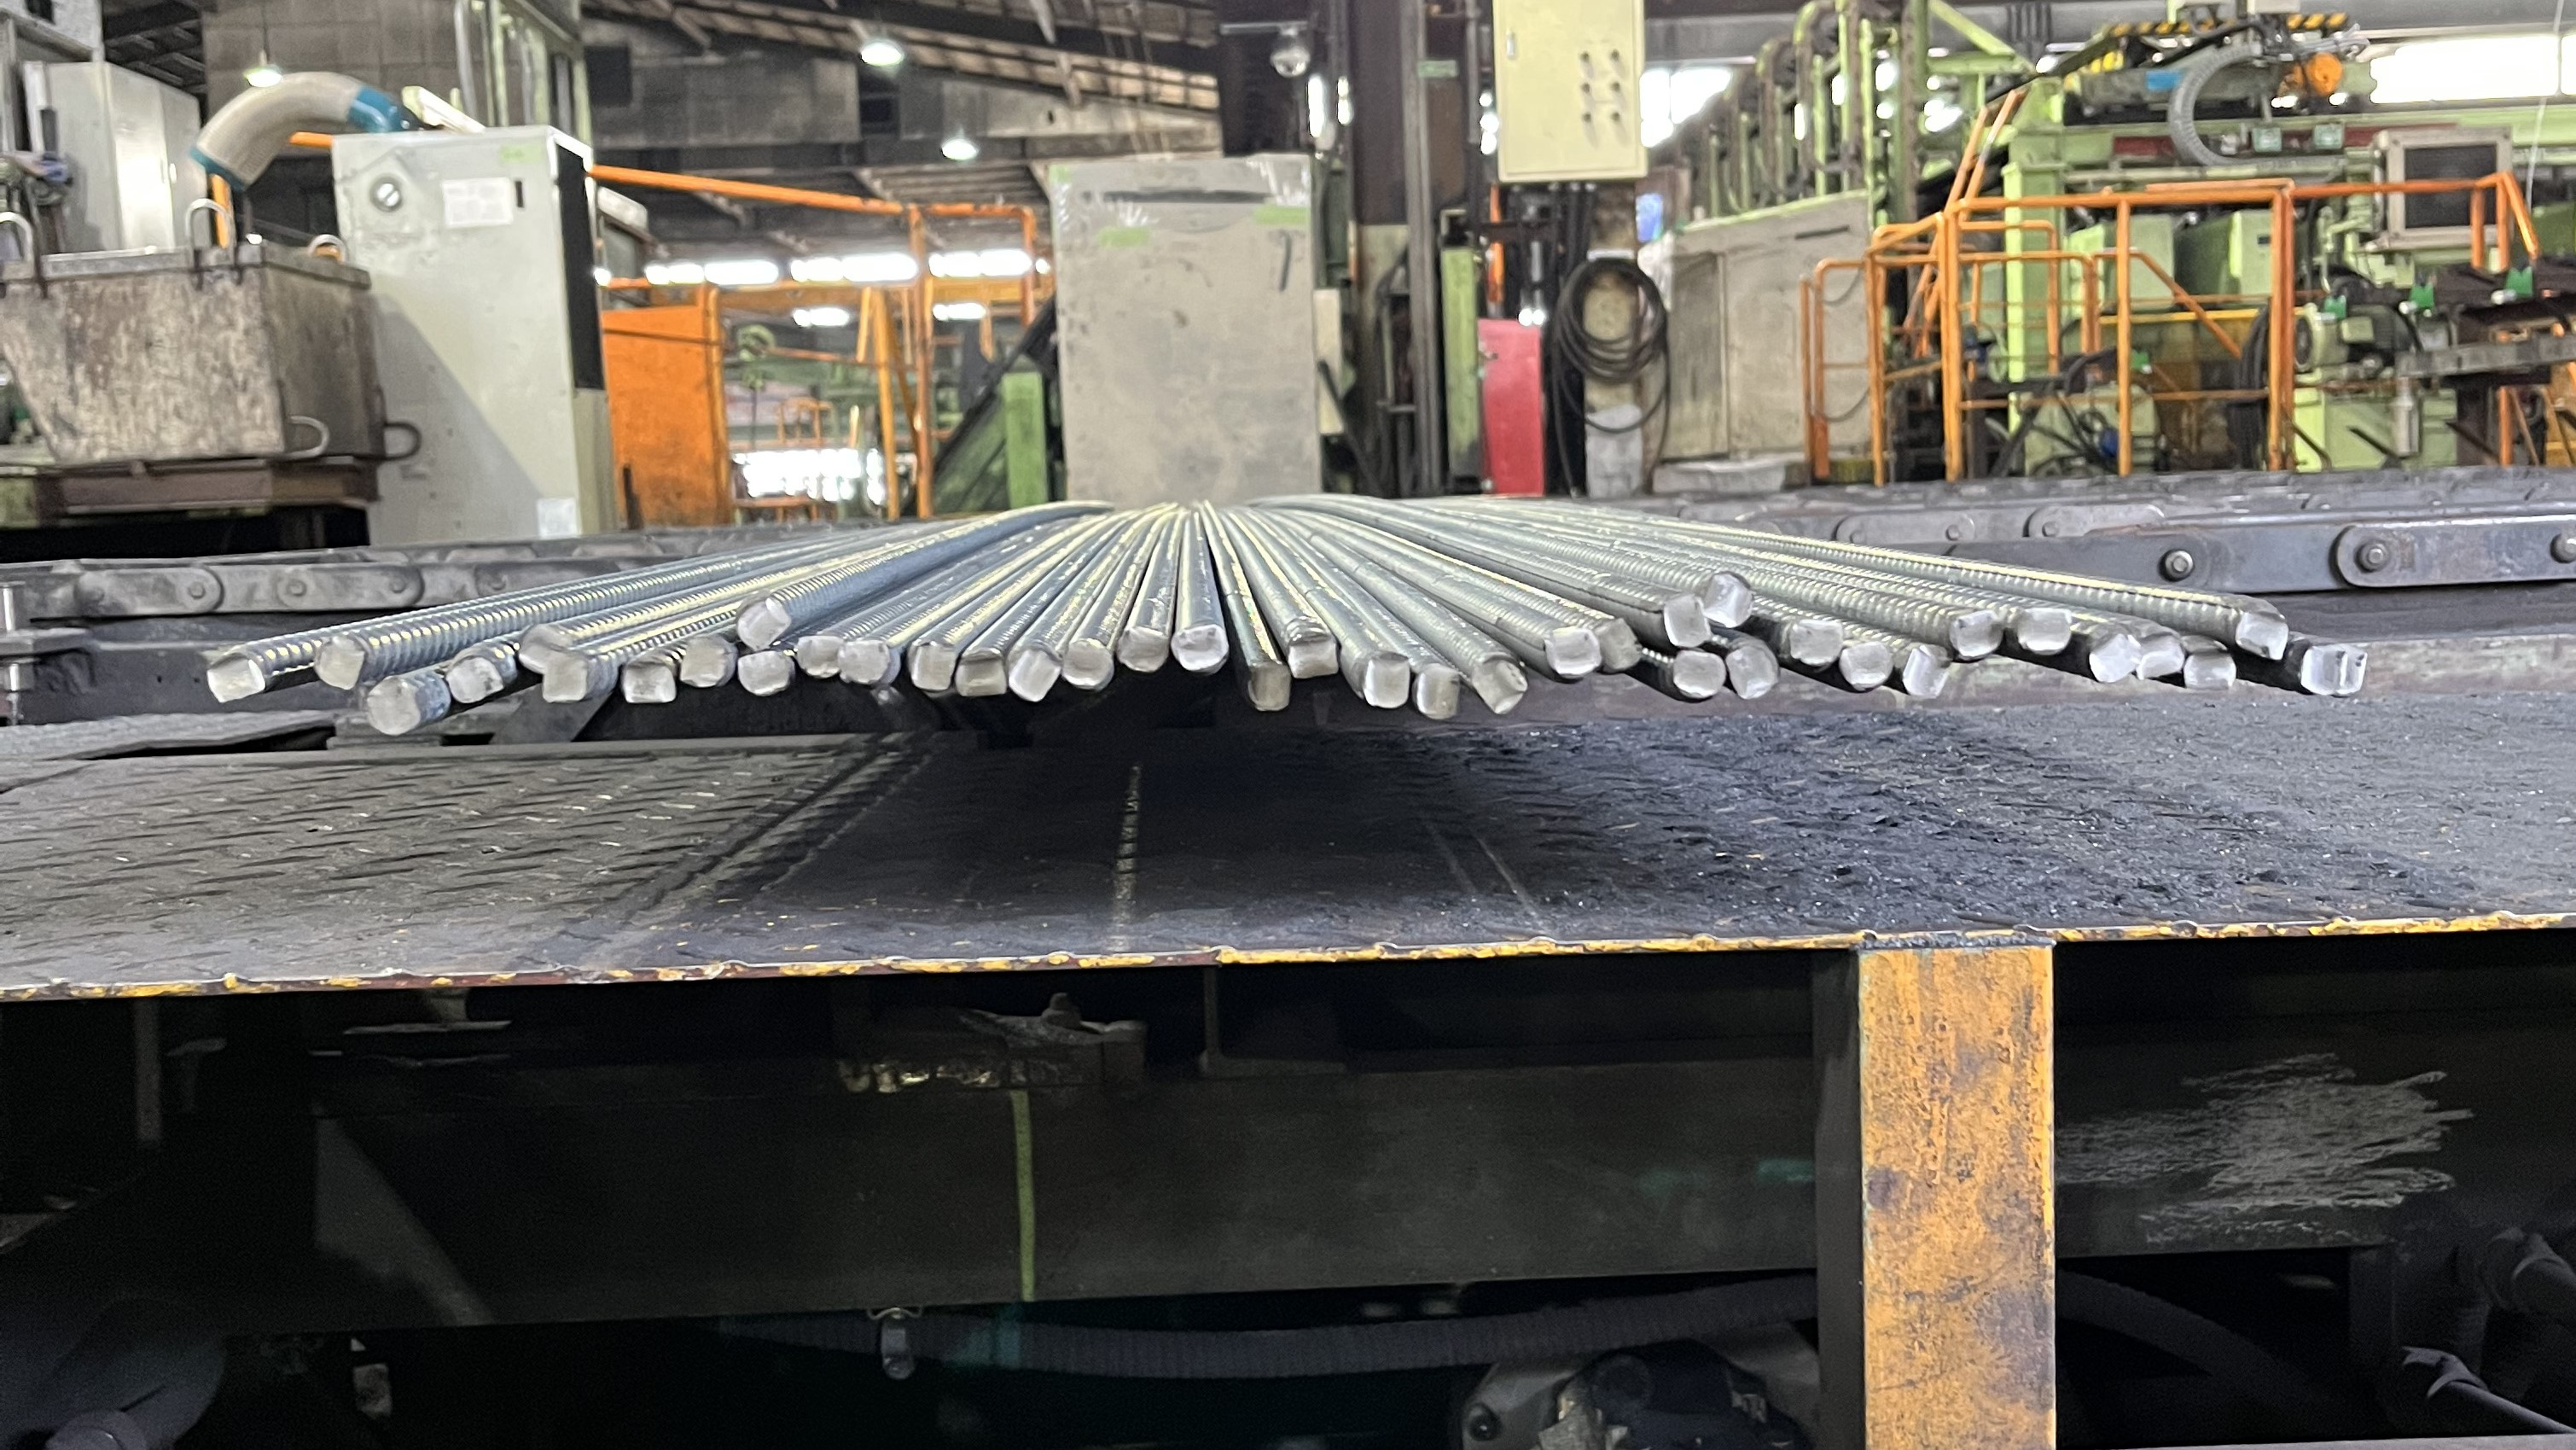rod: (361, 673, 423, 738), (1470, 652, 1530, 717), (442, 653, 508, 706), (205, 652, 267, 706), (1723, 644, 1780, 703), (2233, 605, 2289, 664), (734, 595, 794, 650), (1007, 643, 1062, 703), (1702, 570, 1757, 630), (678, 632, 734, 689), (1545, 625, 1603, 680), (617, 655, 679, 706), (1060, 636, 1115, 690), (1661, 593, 1714, 650), (1670, 648, 1727, 701), (2086, 630, 2143, 683), (2296, 641, 2350, 698), (313, 632, 364, 690), (1361, 652, 1412, 710), (1948, 609, 2006, 660), (2015, 605, 2074, 657), (1169, 623, 1230, 673), (1787, 616, 1847, 666), (517, 620, 570, 675), (1902, 643, 1951, 701), (1286, 629, 1339, 682), (540, 650, 591, 705), (736, 650, 794, 698), (1836, 643, 1895, 690), (1594, 618, 1644, 673), (1115, 625, 1171, 673), (1415, 664, 1463, 721), (2180, 644, 2238, 690), (837, 637, 892, 685), (909, 641, 959, 692), (2134, 629, 2185, 678), (954, 653, 1008, 699), (1247, 660, 1292, 713), (794, 634, 842, 680)
